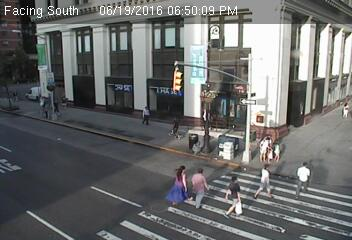neg: (41, 71, 56, 91), (12, 71, 24, 87), (36, 31, 47, 46)
pos: (182, 167, 216, 212), (217, 172, 250, 216), (165, 163, 196, 205), (251, 162, 278, 198), (293, 161, 320, 197), (255, 134, 275, 160), (165, 115, 183, 138), (138, 104, 154, 125), (337, 99, 351, 123), (269, 139, 285, 160), (36, 93, 48, 110), (51, 97, 63, 112)
